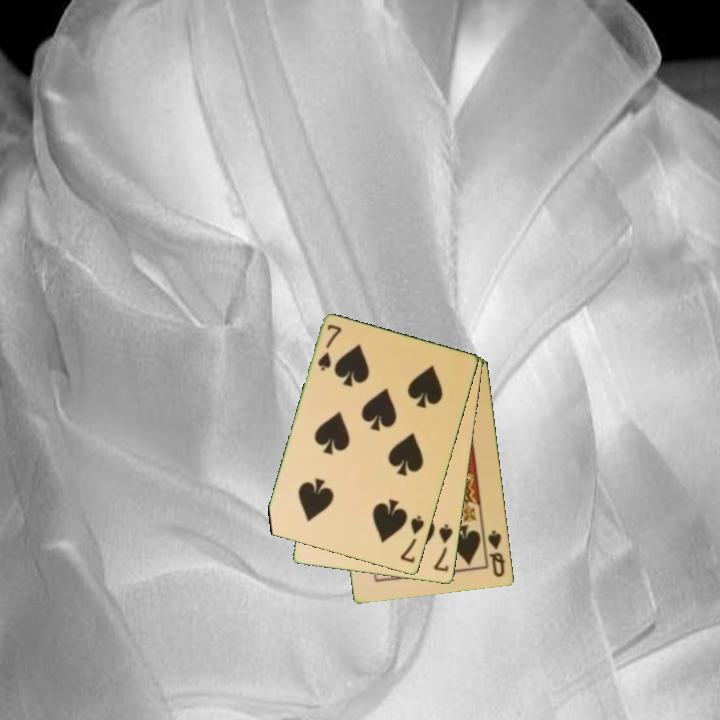7s: (314, 321, 345, 374), (397, 512, 427, 566), (430, 521, 456, 575)
Qs: (485, 527, 508, 580)
